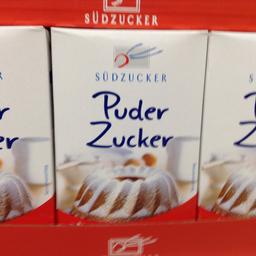sugar: (49, 26, 207, 225), (196, 30, 254, 220)
